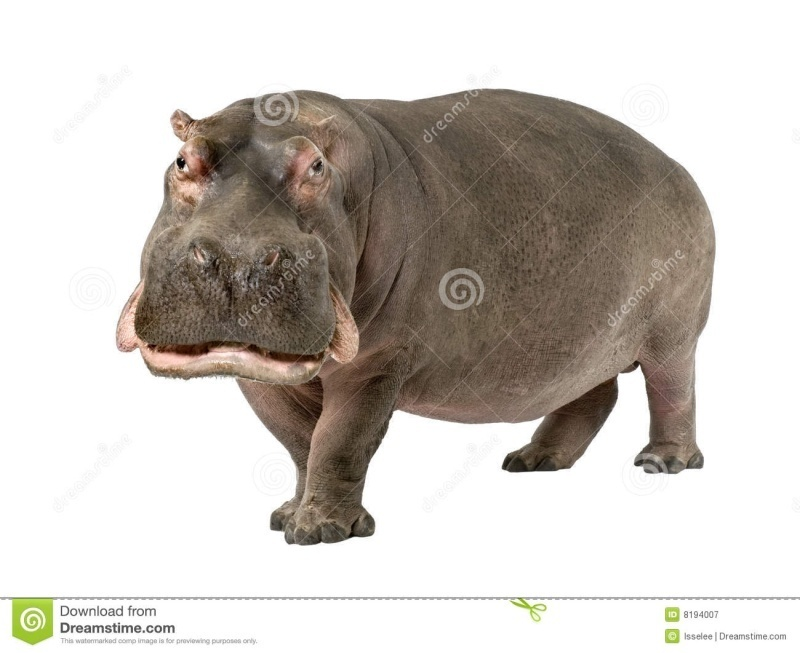hipopotamo: (103, 73, 746, 563)
